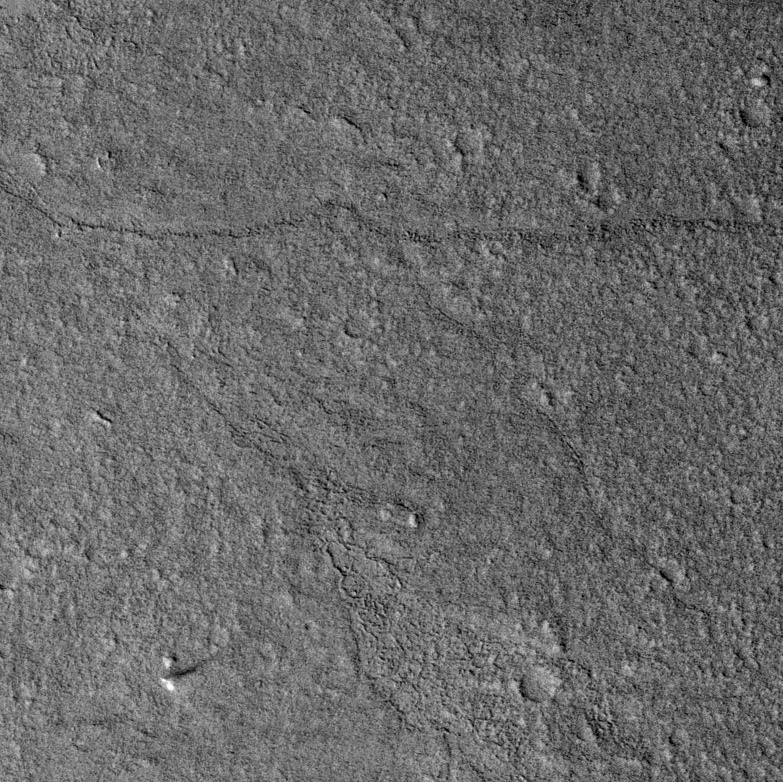dust_devil: (159, 658, 208, 692)
